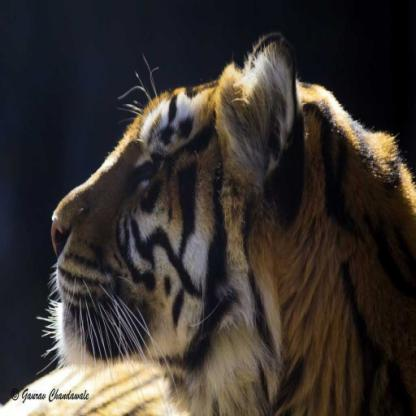Tiger: (15, 25, 413, 416)
